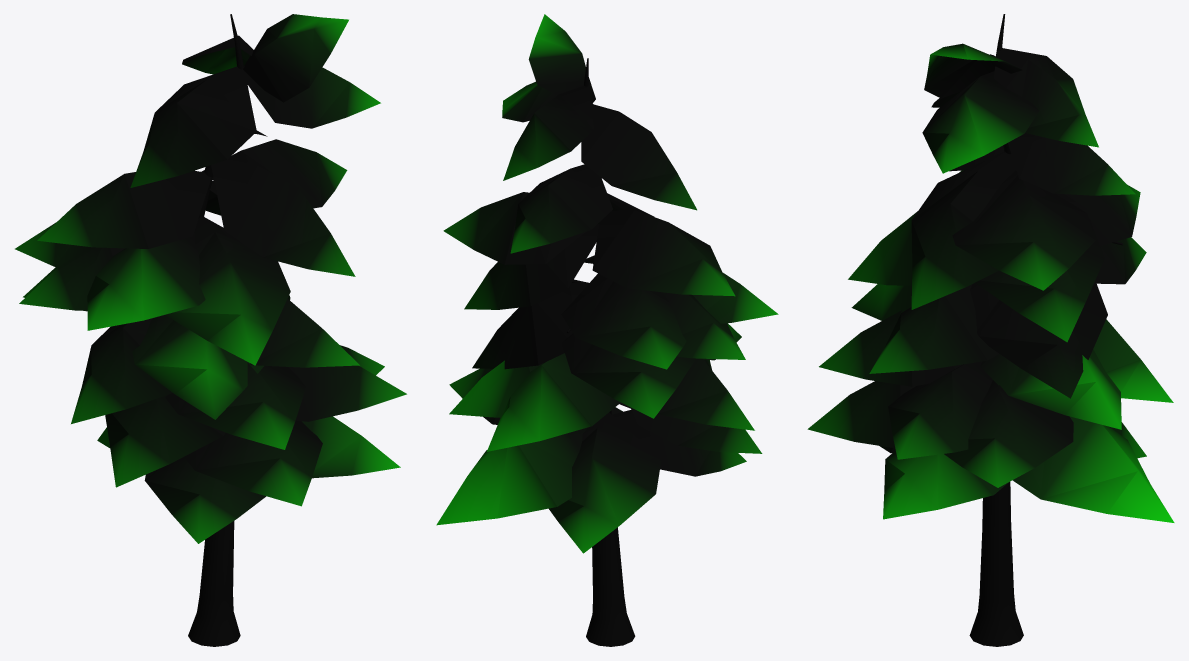
The model's file is SM_Tree_03_Small.fbx.
The picture shows the model from 3 angles, left to right: view 1: azimuth 30°, elevation 25°; view 2: azimuth 150°, elevation 25°; view 3: azimuth 270°, elevation 25°; orthographic projection. The views are drawn at different scales.
Parts seen in each view (by area): view 1: SM_Tree_03_Small; view 2: SM_Tree_03_Small; view 3: SM_Tree_03_Small.
Part boxes in pixels (box(x1,y1,x2,y2)): SM_Tree_03_Small: box(15, 14, 406, 646); SM_Tree_03_Small: box(436, 14, 778, 646); SM_Tree_03_Small: box(807, 14, 1174, 646).
Bounding box in the file's own units: 311 × 535 × 282.
